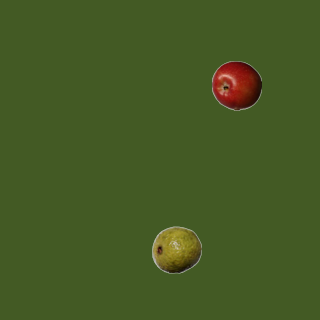Apple Braeburn: (211, 60, 261, 110)
Guava: (151, 224, 201, 274)
